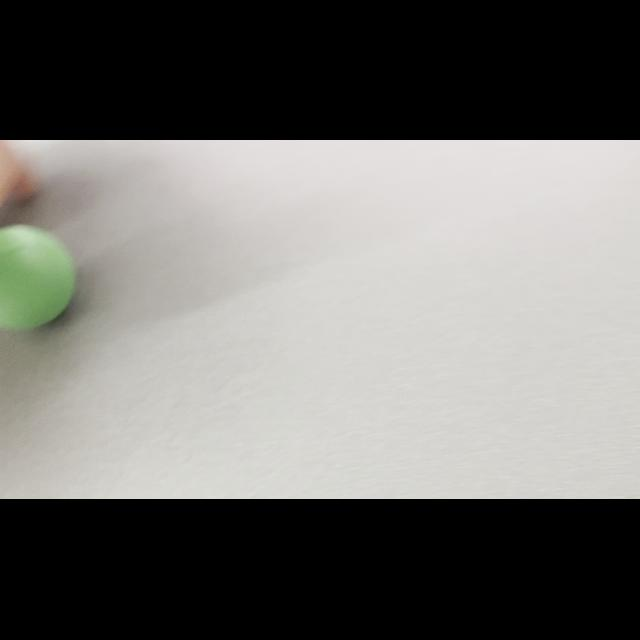objects: (0, 218, 84, 342)
